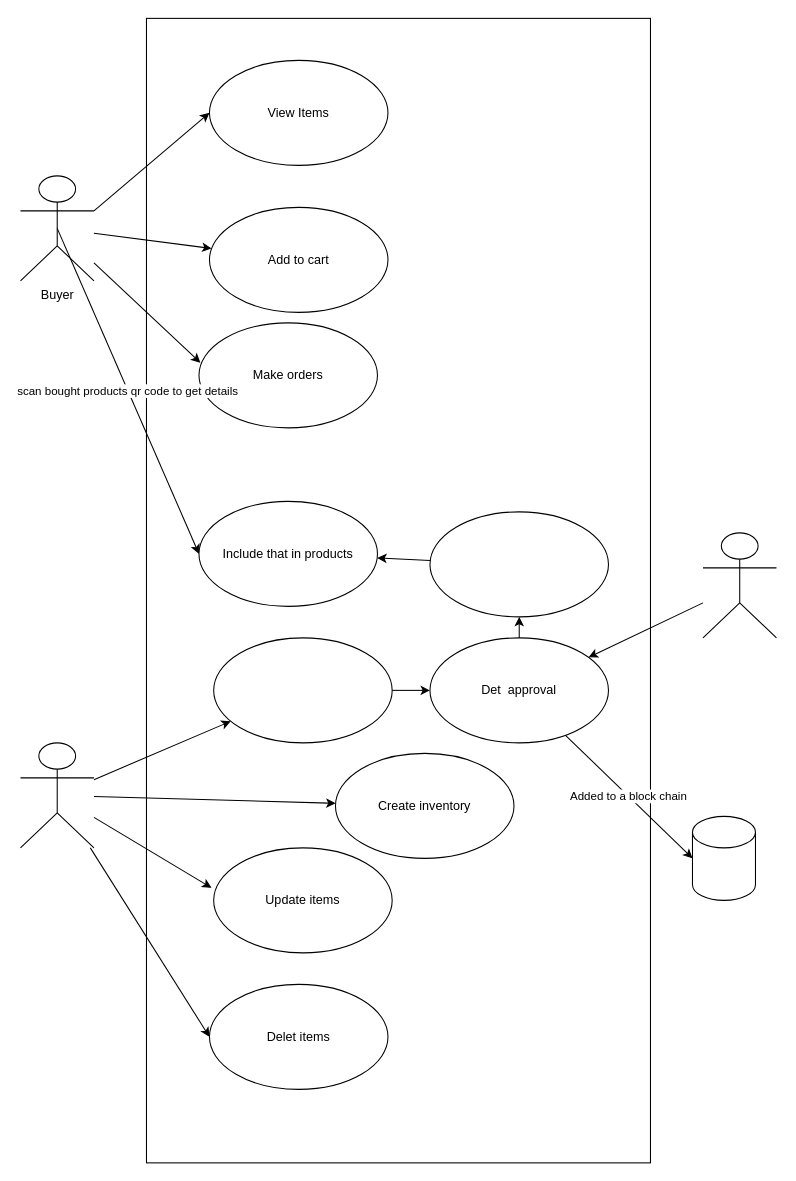
Some shapes in this 796 by 1181 pixel diagram are drawn without their labels. Each missing label, with the box of its shape:
Admin: (702, 532, 776, 638)
Generate QR code: (429, 511, 608, 617)
List items: (213, 637, 392, 743)
Selller: (19, 742, 94, 848)
